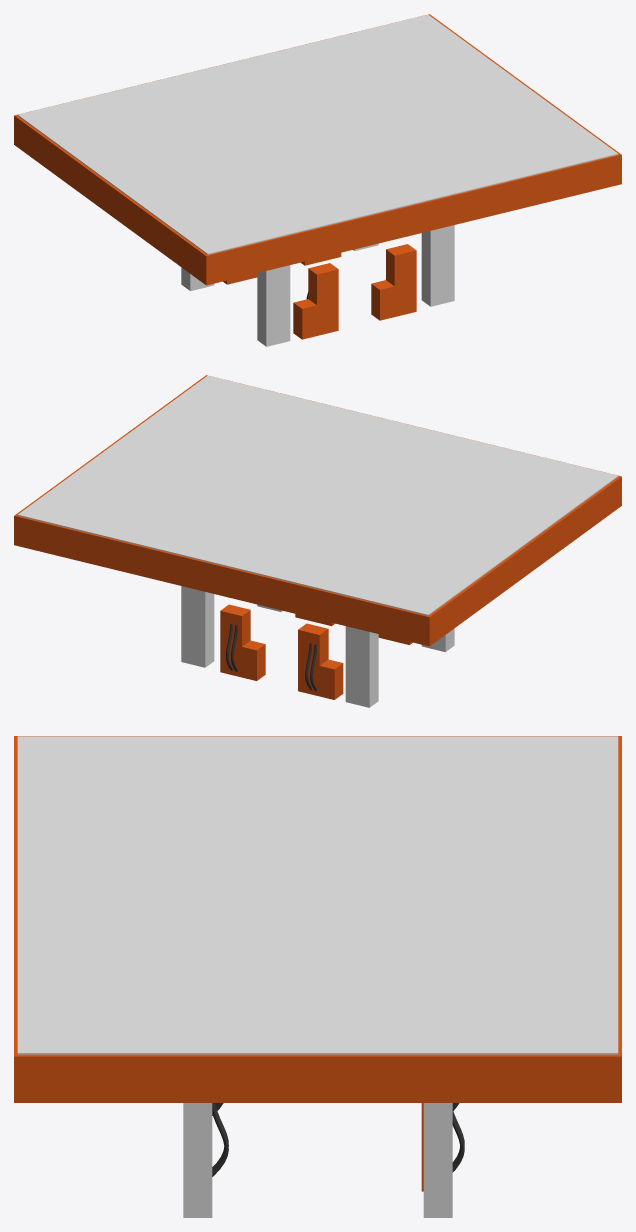
File: gas_station.fbx
The picture shows the model from 3 angles, top to bottom: view 1: azimuth 30°, elevation 25°; view 2: azimuth 150°, elevation 25°; view 3: azimuth 270°, elevation 25°; orthographic projection. The views are drawn at different scales.
Parts seen in each view (by area): view 1: Cube, Cube.002, Cube.001; view 2: Cube, Cube.002, Cube.001; view 3: Cube, Cube.002.
Part boxes in pixels (x1,y1,x2,y2): Cube: [17, 14, 618, 346]; Cube.002: [14, 14, 621, 285]; Cube.001: [223, 244, 416, 339]; Cube: [17, 375, 618, 707]; Cube.002: [14, 375, 621, 646]; Cube.001: [220, 604, 412, 699]; Cube: [17, 736, 618, 1217]; Cube.002: [14, 736, 621, 1102].
Bounding box in the file's own units: 334 × 123 × 268.
